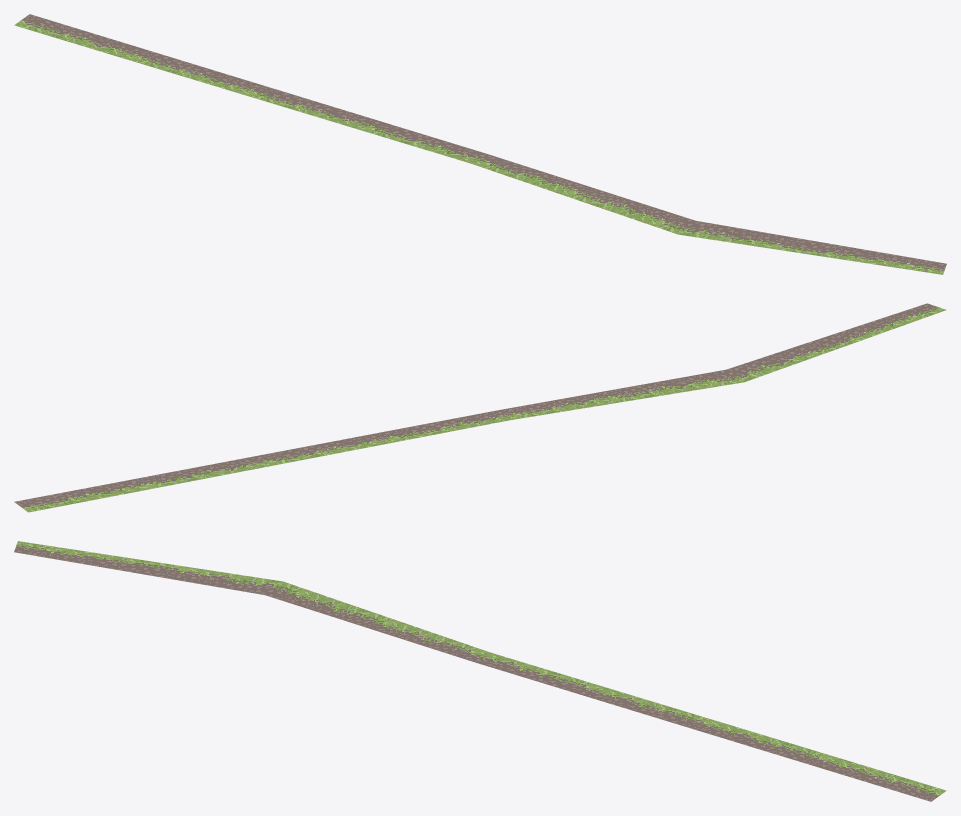
The model's file is kd_stage_136282_3_44.glb.
The picture shows the model from 3 angles, top to bottom: view 1: azimuth 90°, elevation 25°; view 2: azimuth 150°, elevation 25°; view 3: azimuth 270°, elevation 25°; orthographic projection. The views are drawn at different scales.
Parts seen in each view (by area): view 1: kd_stage_136282_3_44; view 2: kd_stage_136282_3_44; view 3: kd_stage_136282_3_44.
Boxes of the visible parts, bbox=[...] form: kd_stage_136282_3_44: bbox=[14, 14, 946, 274]; kd_stage_136282_3_44: bbox=[14, 303, 946, 512]; kd_stage_136282_3_44: bbox=[14, 541, 946, 801].
Size of the model in its own units: 1.03 by 0 by 1.56.
Materials: 1 (1 with a texture image).
